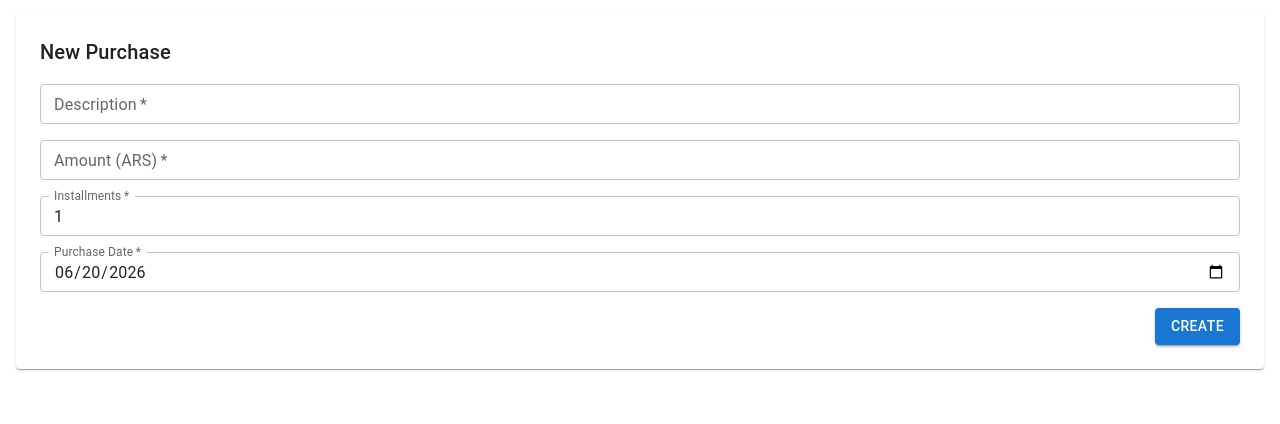
Scenario: PurchaseForm › displays error message when service throws
The width and height of the screenshot is (1280, 424).
In the field labelled "Description *": coordinates (640, 104) x1=40 y1=84 x2=1240 y2=124, type "Test"
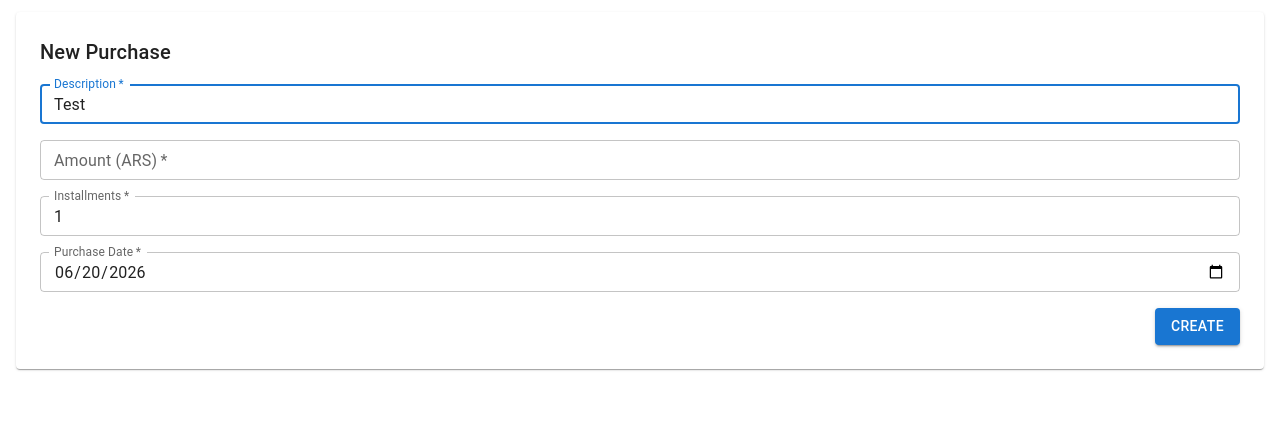
In the number field labelled "Amount (ARS) *": coordinates (640, 160) x1=40 y1=140 x2=1240 y2=180, type "100"
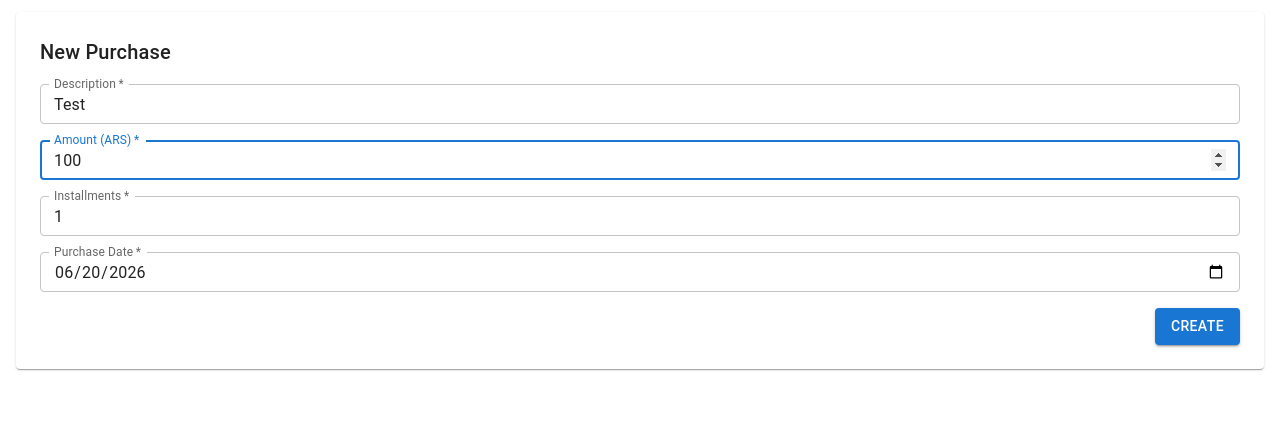
In the date field labelled "Purchase Date *": coordinates (640, 272) x1=40 y1=252 x2=1240 y2=292, type "2025-06-10"
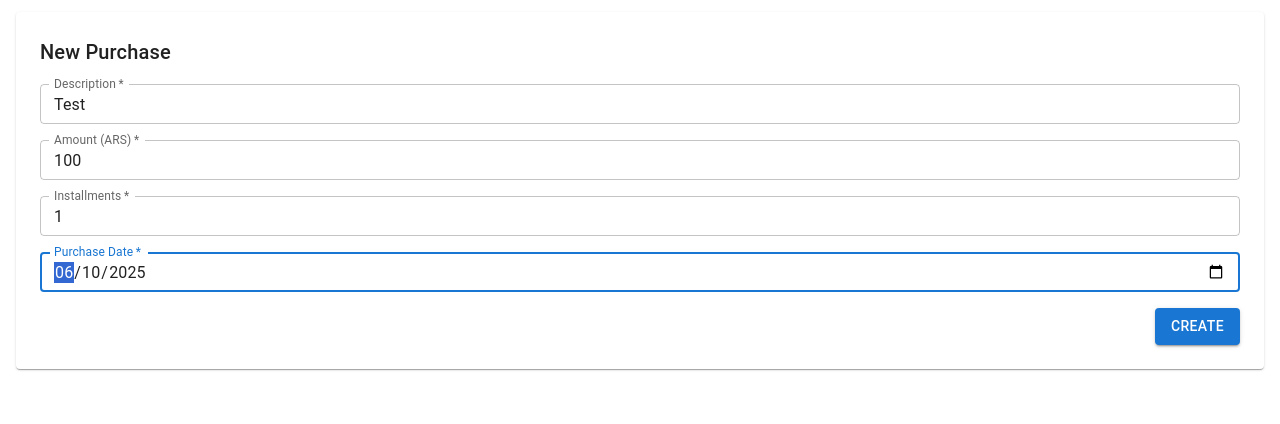
Click the button "Create": coordinates (1197, 326) x1=1155 y1=308 x2=1240 y2=344
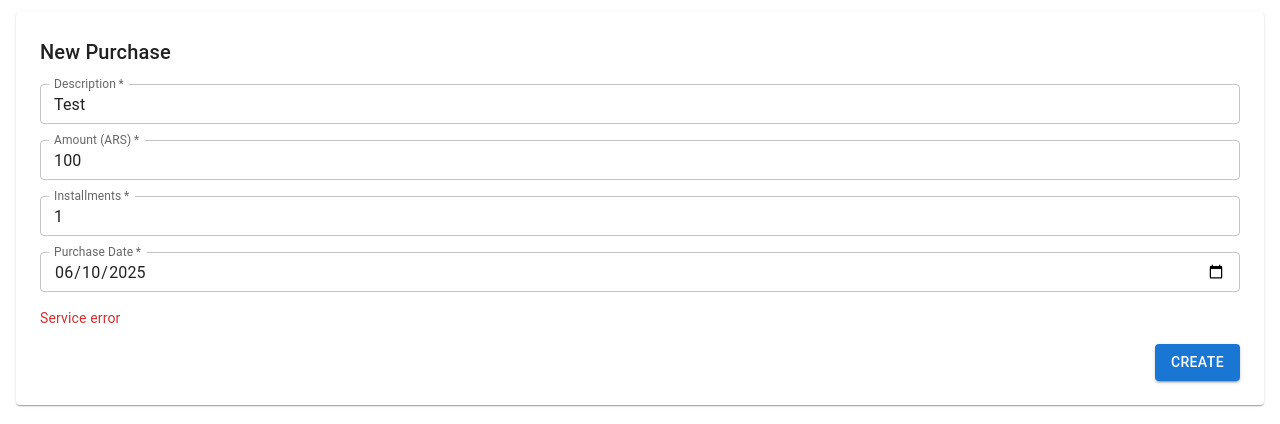
Check: the text "Service error" is shown, box x1=40 y1=310 x2=120 y2=326
